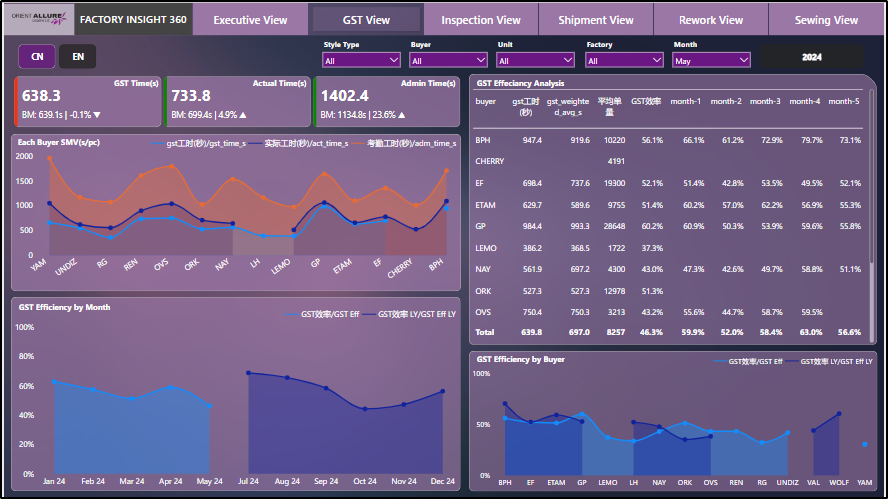

What the dashboard file says about the page in this screenshot:
{"tool":"powerbi","page":{"name":"GST View","canvas":[1920,1080],"ordinal":2},"visuals":[{"type":"shape","title":"Navigation Panel Background Shape","box":[0,0,1920,70.6],"z":0,"group":"g8"},{"type":"shape","title":"Back","box":[0,2.8,153.1,68.1],"z":0,"group":"g11"},{"type":"advancedSlicerVisual","title":"Slicer year","fields":{"Values":["dim_date.year"]},"box":[1643.5,84.5,238.1,62.2],"z":0,"group":"g9"},{"type":"cardVisual","fields":{"Data":["Key Measures.gst_avg_time_s","Key Measures.actual_avg_time_s","Key Measures.admin_avg_time_s"]},"box":[18.1,154,983.5,121.4],"z":0,"group":"g5"},{"type":"shape","box":[1013.9,154,890.5,590.8],"z":0,"group":"g6"},{"type":"group","id":"g1","title":"Group 5","box":[16.3,282.6,981.7,344.2],"z":0,"group":"g10"},{"type":"shape","title":"back","box":[16.3,283.8,981.7,342.9],"z":0,"group":"g1"},{"type":"group","id":"g2","title":"GST eff year","box":[16.3,641.2,981.7,423.8],"z":0},{"type":"group","id":"g3","title":"Group 2","box":[16.3,641.2,981.7,423.8],"z":0,"group":"g2"},{"type":"shape","title":"back","box":[16.3,641.2,980.7,423.3],"z":0,"group":"g3"},{"type":"group","id":"g4","title":"Group 4","box":[1014.3,759.6,891.2,307.2],"z":0,"group":"g7"},{"type":"shape","title":"back","box":[1014.3,759.6,891.2,306.4],"z":0,"group":"g4"},{"type":"image","title":"Logo","box":[4.3,0,143.7,68.6],"z":1000,"group":"g11"},{"type":"actionButton","title":"Executive View Icon","box":[412.4,0,250.9,70.2],"z":1000,"group":"g8"},{"type":"slicer","title":"Slicer month","fields":{"Values":["dim_date.month"]},"box":[1449.3,73.6,190.2,74.3],"z":1000,"group":"g9"},{"type":"group","id":"g5","title":"GST View KPI Card","box":[18.1,154,983.5,121.4],"z":1000},{"type":"actionButton","title":"title admin time s","box":[855.1,155.8,134.5,34.8],"z":1000,"group":"g5"},{"type":"pivotTable","fields":{"Rows":["dim_buyer.buyer"],"Values":["Key Measures.gst_avg_time_s","Key Measures.gst_weighted_avg","Key Measures.平均单量","Key Measures.GST生产效率","Key Measures.month-1","Key Measures.GST生产效率 month-2","Key Measures.GST生产效率 month-3","Key Measures.GST生产效率 month-4","Key Measures.GST生产效率 month-5"]},"box":[1019.3,182.6,883.9,563.3],"z":1000,"group":"g6"},{"type":"areaChart","fields":{"Category":["dim_buyer.buyer"],"Y":["Key Measures.gst_avg_time_s","Key Measures.actual_avg_time_s","Key Measures.admin_avg_time_s"]},"box":[19.6,282.6,977.5,342.9],"z":1000,"group":"g1"},{"type":"actionButton","title":"title","box":[26.9,284.4,213.8,35],"z":1000,"group":"g10"},{"type":"actionButton","title":"title","box":[30.4,644.8,224,35],"z":1000,"group":"g2"},{"type":"areaChart","fields":{"Category":["dim_date.date"],"Y":["Key Measures.GST生产效率","Key Measures.GST生产效率 LY"]},"box":[19.4,657.4,978.7,407.7],"z":1000,"group":"g3"},{"type":"actionButton","title":"title","box":[1026.8,758.9,218.3,35],"z":1000,"group":"g7"},{"type":"areaChart","fields":{"Y":["Key Measures.GST生产效率","Key Measures.GST生产效率 LY"],"Category":["dim_buyer.buyer"]},"box":[1016.1,760.5,888.9,306.4],"z":1000,"group":"g4"},{"type":"actionButton","title":"Overshipment View","box":[1167.2,0,248.7,70.2],"z":2000,"group":"g8"},{"type":"slicer","title":"Slicer factory","fields":{"Values":["dim_factory.factory"]},"box":[1259.1,73.6,190.2,74.3],"z":2000,"group":"g9"},{"type":"group","id":"g6","title":"gst eff matrix","box":[1013.9,154,890.5,591.9],"z":2000},{"type":"actionButton","title":"title actual time s","box":[527.7,155.8,136.3,34.8],"z":2000,"group":"g5"},{"type":"actionButton","title":"title","box":[1026.8,155.8,271.8,35],"z":2000,"group":"g6"},{"type":"actionButton","title":"Inspection View Icon","box":[916.3,0,248.7,70.2],"z":3000,"group":"g8"},{"type":"slicer","title":"Slicer unit","fields":{"Values":["dim_unit.unit"]},"box":[1065.3,73.6,190.2,74.3],"z":3000,"group":"g9"},{"type":"actionButton","title":"title gst time s","box":[207.4,155.8,134.5,34.8],"z":3000,"group":"g5"},{"type":"group","id":"g7","title":"Buyer Gst eff","box":[1014.3,758.9,891.2,307.9],"z":3000},{"type":"group","id":"g8","title":"Navigation Panel","box":[0,0,1920,70.6],"z":4000},{"type":"actionButton","title":"Sewing View Icon","box":[1668.9,0,250.9,70.2],"z":4000,"group":"g8"},{"type":"slicer","title":"Slicer buyer","fields":{"Values":["dim_buyer.buyer"]},"box":[875.1,73.6,190.2,74.3],"z":4000,"group":"g9"},{"type":"actionButton","title":"GST View Icon","box":[665.4,0,250.9,70.2],"z":5000,"group":"g8"},{"type":"group","id":"g9","title":"Slicer Panel","box":[684.9,73.6,1196.7,74.3],"z":5000},{"type":"slicer","title":"Slicer style_type","fields":{"Values":["dim_style_type.style_type"]},"box":[684.9,73.6,190.2,74.3],"z":5000,"group":"g9"},{"type":"shape","title":"Orient Insight 360 Button","box":[155.2,0,255,70.2],"z":6000,"group":"g8"},{"type":"group","id":"g10","title":"gst_act_admin time s","box":[16.3,282.6,981.7,344.2],"z":6000},{"type":"group","id":"g11","title":"Orient Logo","box":[0,0,153.1,70.2],"z":7000,"group":"g8"},{"type":"advancedSlicerVisual","title":"Slicer year","fields":{"Values":["#lan-slicer.Lan"]},"box":[25.5,84.5,180.7,63.8],"z":7000},{"type":"actionButton","title":"RR View","box":[1418,0,248.7,70.2],"z":8000,"group":"g8"}]}

Visuals, with their boxes in screenshot pixels (x1, y1, x2, y2), scaled from the page's 1920x1080 canvas onto the 888x499 screenshot:
"Navigation Panel Background Shape" shape: 0,0,887,33
"Back" shape: 0,1,71,33
"Slicer year" advancedSlicerVisual: 760,39,870,68
cardVisual - Key Measures.gst_avg_time_s x Key Measures.actual_avg_time_s: 8,71,463,127
shape: 469,71,881,344
"Group 5" group: 8,131,462,290
"back" shape: 8,131,462,290
"GST eff year" group: 8,296,462,492
"Group 2" group: 8,296,462,492
"back" shape: 8,296,461,492
"Group 4" group: 469,351,881,493
"back" shape: 469,351,881,493
"Logo" image: 2,0,68,32
"Executive View Icon" actionButton: 191,0,307,32
"Slicer month" slicer: 670,34,758,68
"GST View KPI Card" group: 8,71,463,127
"title admin time s" actionButton: 395,72,458,88
pivotTable - dim_buyer.buyer x Key Measures.gst_avg_time_s: 471,84,880,345
areaChart - dim_buyer.buyer x Key Measures.gst_avg_time_s: 9,131,461,289
"title" actionButton: 12,131,111,148
"title" actionButton: 14,298,118,314
areaChart - dim_date.date x Key Measures.GST生产效率: 9,304,462,492
"title" actionButton: 475,351,576,367
areaChart - Key Measures.GST生产效率 x Key Measures.GST生产效率 LY: 470,351,881,493
"Overshipment View" actionButton: 540,0,655,32
"Slicer factory" slicer: 582,34,670,68
"gst eff matrix" group: 469,71,881,345
"title actual time s" actionButton: 244,72,307,88
"title" actionButton: 475,72,601,88
"Inspection View Icon" actionButton: 424,0,539,32
"Slicer unit" slicer: 493,34,581,68
"title gst time s" actionButton: 96,72,158,88
"Buyer Gst eff" group: 469,351,881,493
"Navigation Panel" group: 0,0,887,33
"Sewing View Icon" actionButton: 772,0,887,32
"Slicer buyer" slicer: 405,34,493,68
"GST View Icon" actionButton: 308,0,424,32
"Slicer Panel" group: 317,34,870,68
"Slicer style_type" slicer: 317,34,405,68
"Orient Insight 360 Button" shape: 72,0,190,32
"gst_act_admin time s" group: 8,131,462,290
"Orient Logo" group: 0,0,71,32
"Slicer year" advancedSlicerVisual: 12,39,95,69
"RR View" actionButton: 656,0,771,32
